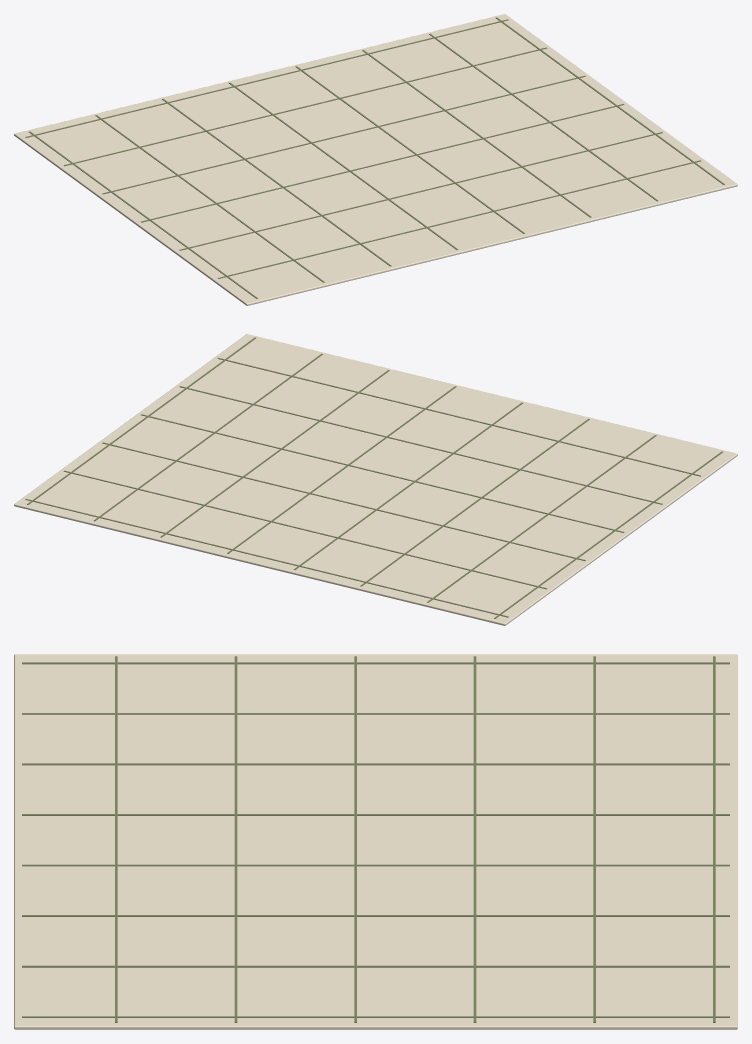
Rendered from living_ref_rug.glb.
The picture shows the model from 3 angles, top to bottom: view 1: azimuth 30°, elevation 25°; view 2: azimuth 150°, elevation 25°; view 3: azimuth 270°, elevation 25°; orthographic projection. The views are drawn at different scales.
Size of the model in its own units: 5.6 by 0.0325 by 4.6.
